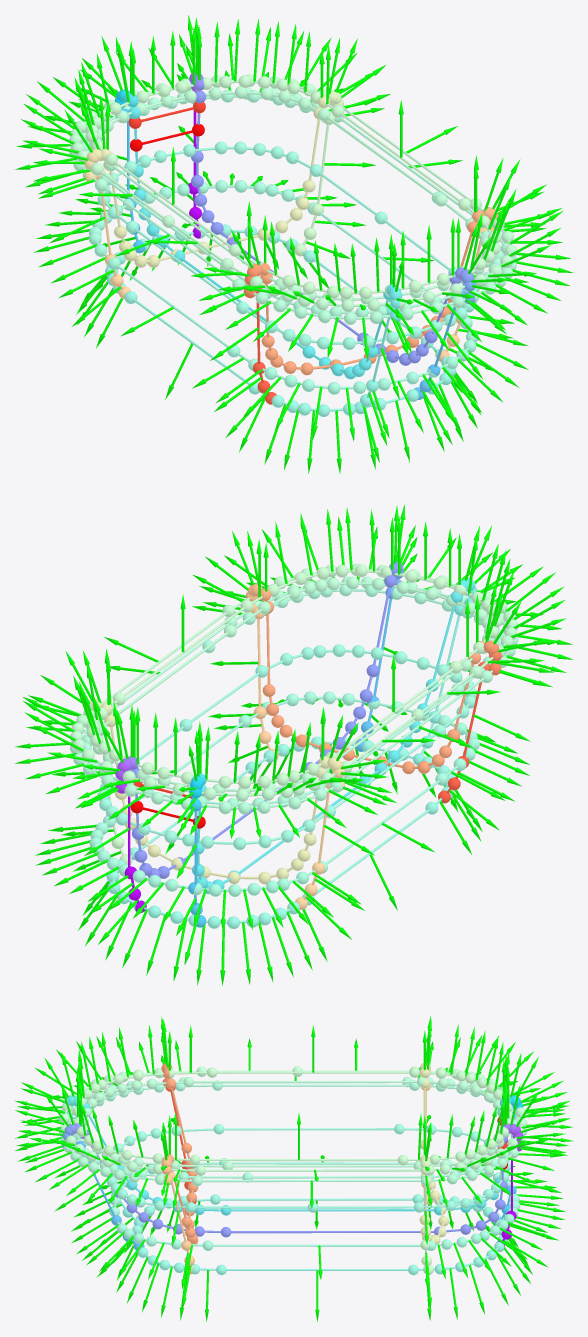
The model's file is flowrep_bathtub.gltf.
The picture shows the model from 3 angles, top to bottom: view 1: azimuth 30°, elevation 25°; view 2: azimuth 150°, elevation 25°; view 3: azimuth 270°, elevation 25°; orthographic projection. The views are drawn at different scales.
Bounding box in the file's own units: 0.6387 × 0.4386 × 1.05.
